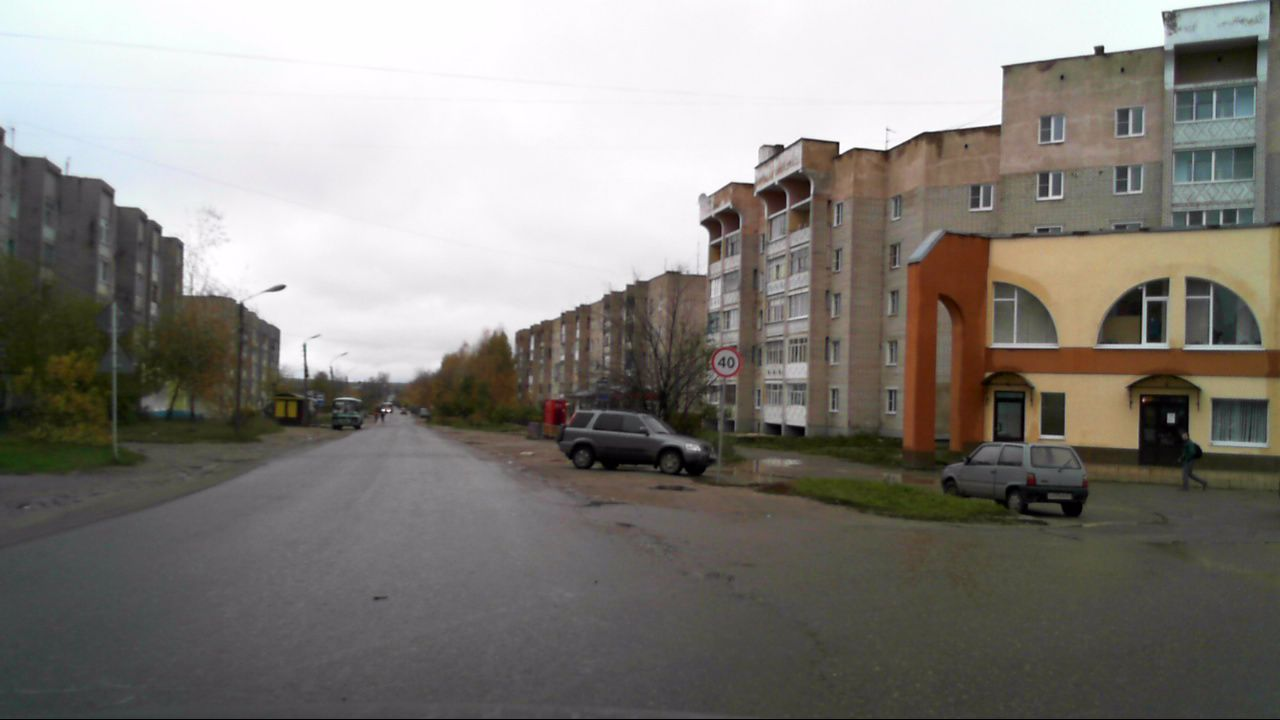speed_warning_40: (709, 345, 743, 378)
